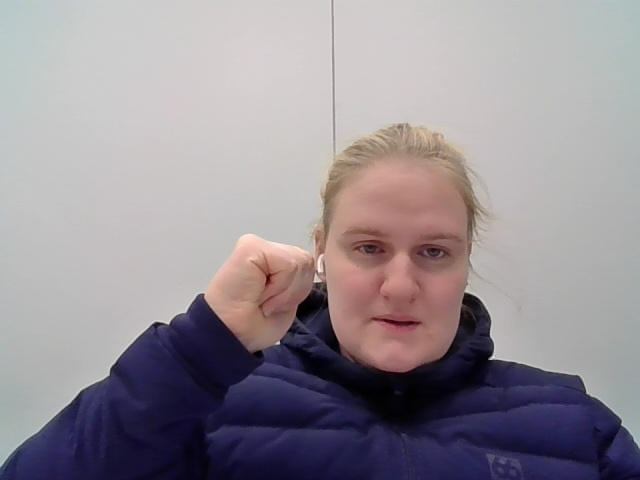down: (174, 209, 329, 383)
